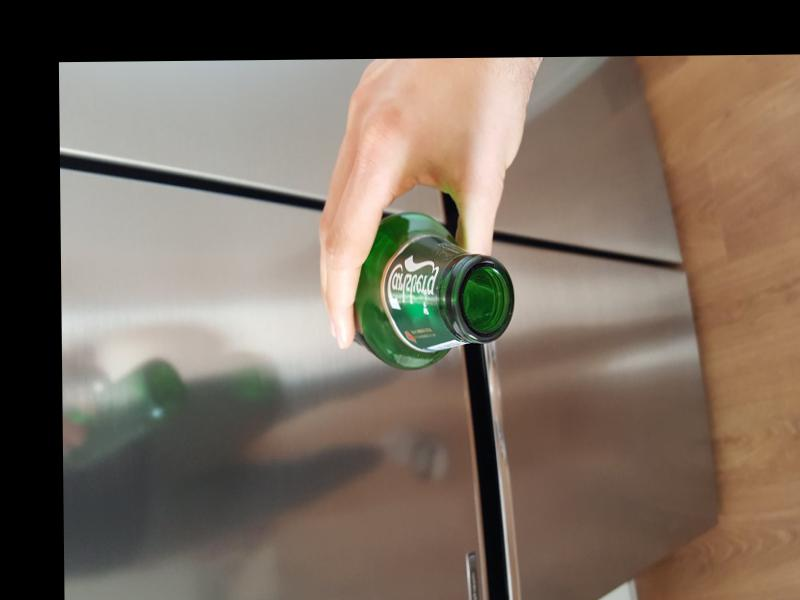Beer: (352, 215, 515, 369)
